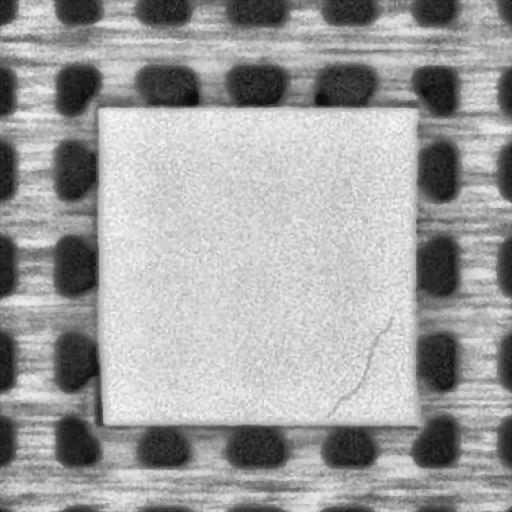DIE_CRACK: (325, 313, 393, 419)
